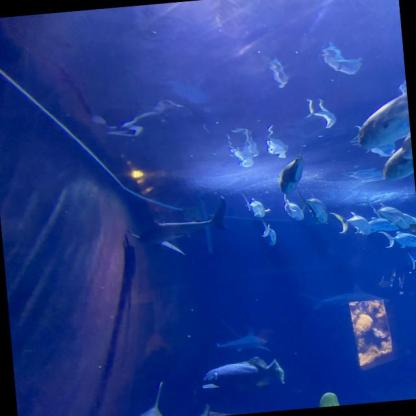fish: (199, 354, 286, 395), (353, 90, 410, 150), (368, 199, 410, 231), (380, 146, 414, 182), (298, 186, 328, 226), (330, 209, 371, 238), (354, 215, 399, 235), (377, 228, 415, 250), (242, 192, 270, 220), (284, 192, 304, 222), (259, 217, 277, 246), (400, 127, 412, 160), (408, 252, 416, 270)
shark: (115, 192, 234, 262), (68, 380, 183, 416), (298, 281, 390, 311), (216, 325, 271, 356)
stingray: (277, 154, 306, 194)
